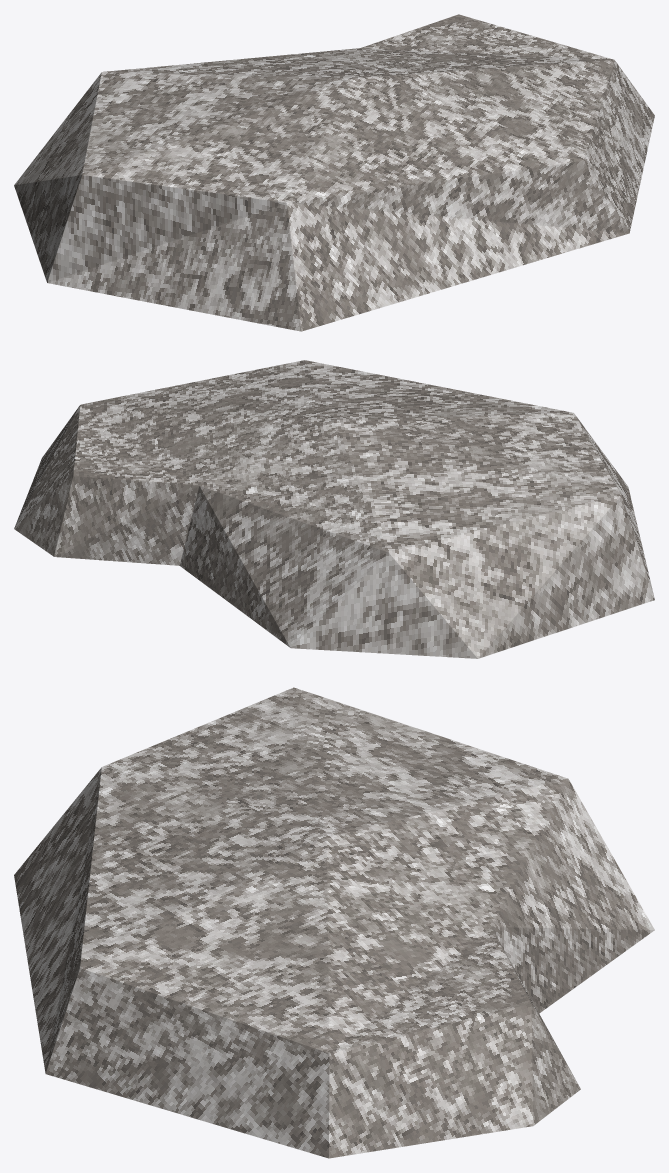
The model's file is garden_rock_2.glb.
3 views of the same model, one above another, from view 1: azimuth 30°, elevation 25°; view 2: azimuth 150°, elevation 25°; view 3: azimuth 270°, elevation 25° (orthographic). The views are drawn at different scales.
Parts seen in each view (by area): view 1: garden_rock_2; view 2: garden_rock_2; view 3: garden_rock_2.
Boxes of the visible parts, left/top/right/bottom form: garden_rock_2: left=14, top=14, right=654, bottom=331; garden_rock_2: left=14, top=360, right=654, bottom=658; garden_rock_2: left=14, top=687, right=654, bottom=1158.
Size of the model in its own units: 2.01 by 0.3619 by 1.45.
Materials: 1 (1 with a texture image).
